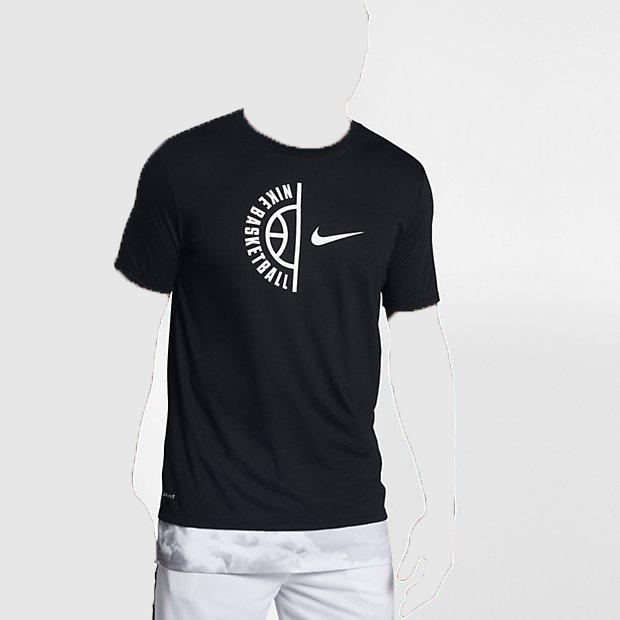teeshirt: (109, 105, 447, 537)
